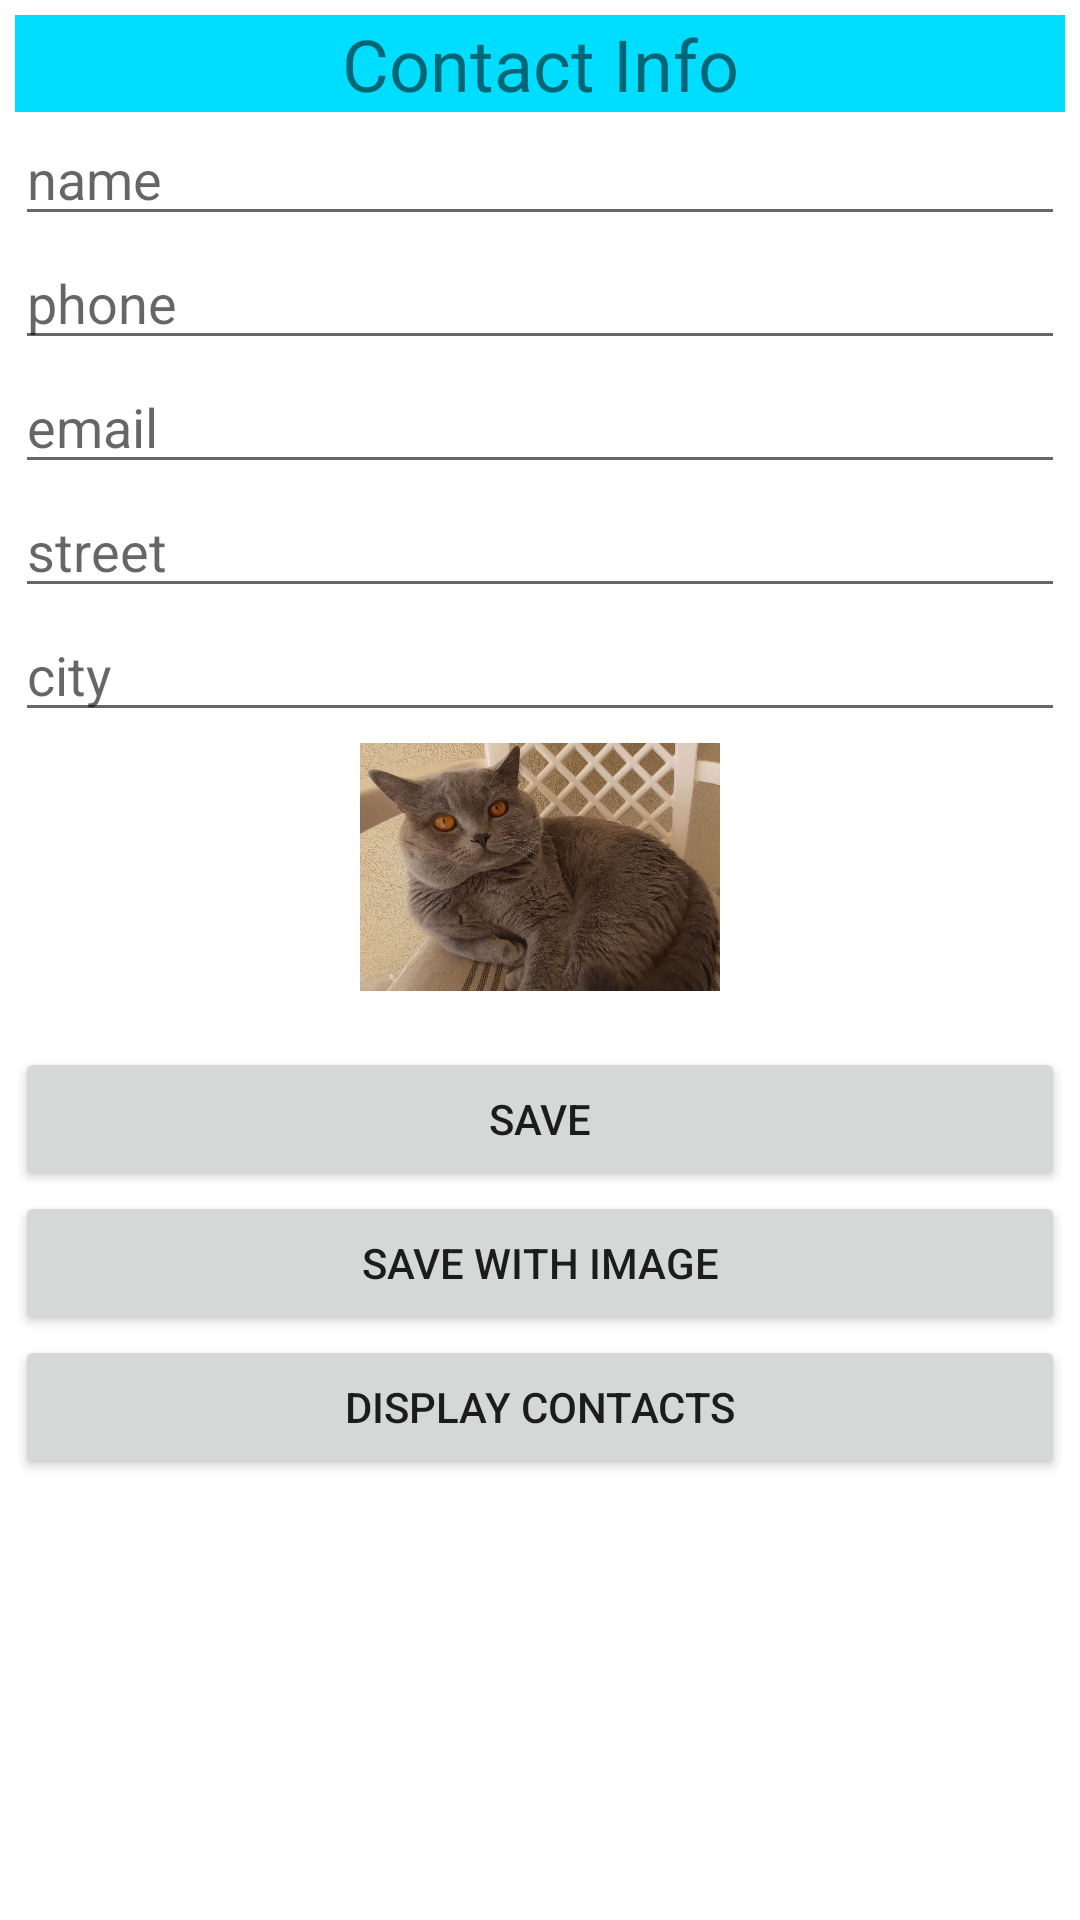

Point at icon controls on the screen. Image size 1080 × 1920, points as point (x, y).
cat: point (540, 867)
